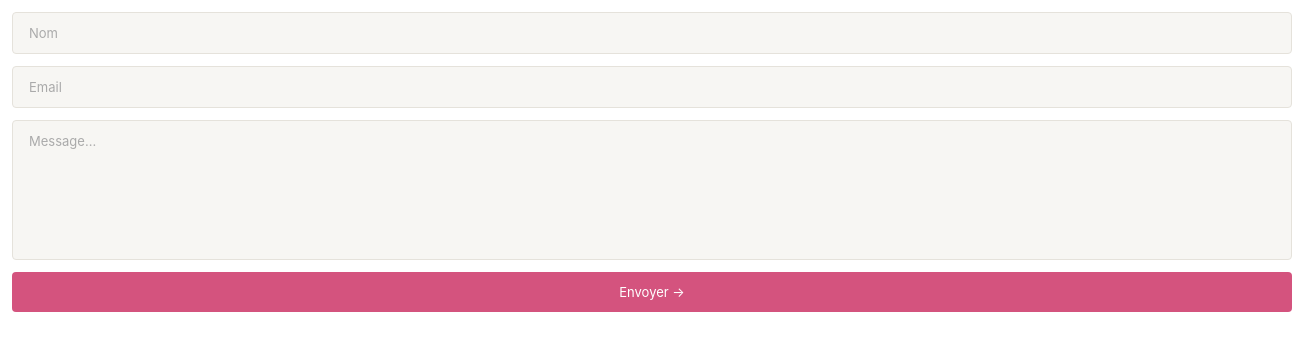
Test case: ContactForm › field validation › shows email format error for a malformed email
Type "Alice" into the field with placeholder "Nom" at (652, 33), box left=12, top=12, right=1292, bottom=54
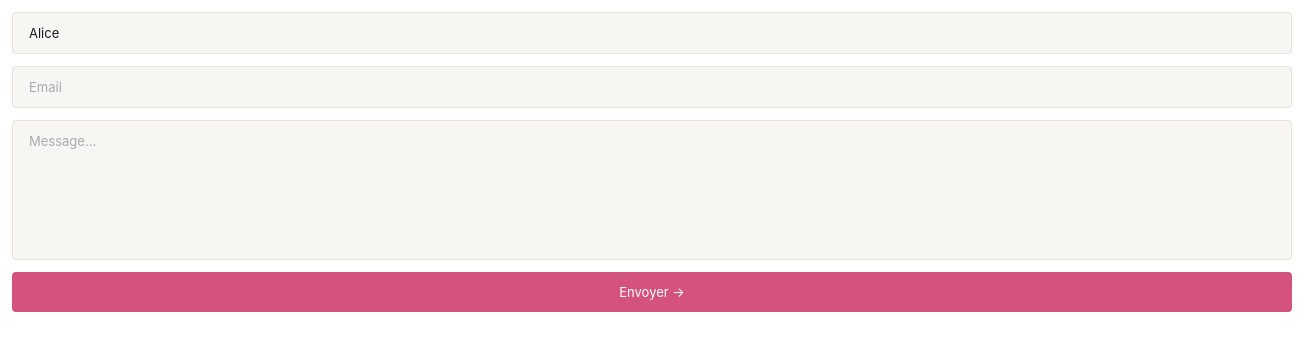
Type "not-an-email" into the field with placeholder "Email" at (652, 87), box left=12, top=66, right=1292, bottom=108
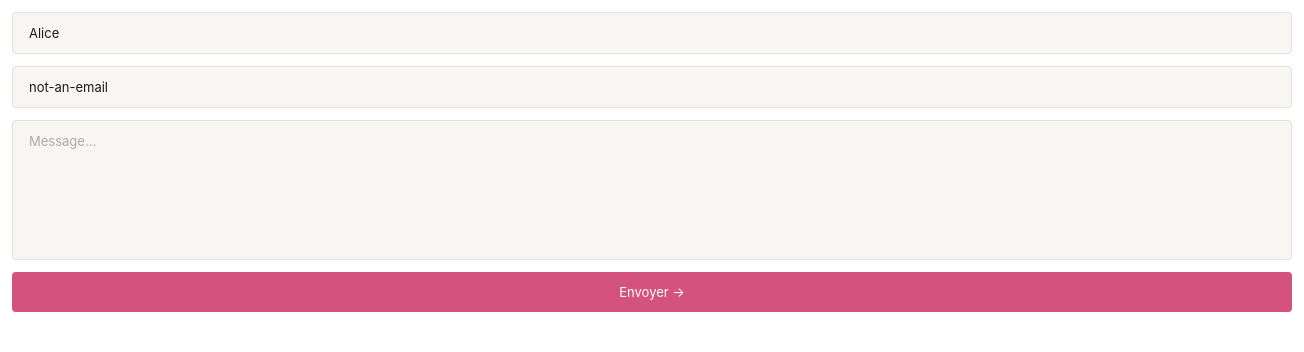
Type "Hello!" into the text box with placeholder "Message..." at (652, 190), box left=12, top=120, right=1292, bottom=260
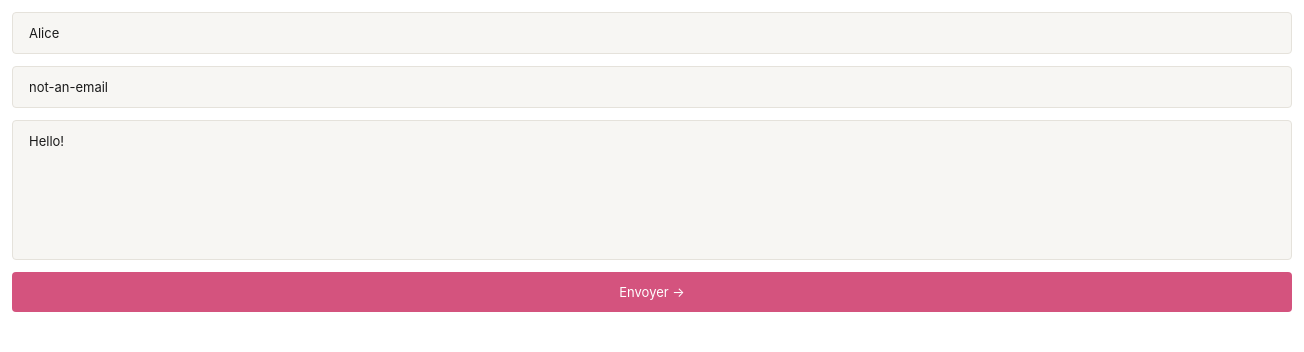
Click the button "Envoyer →" at (652, 292), box left=12, top=272, right=1292, bottom=312
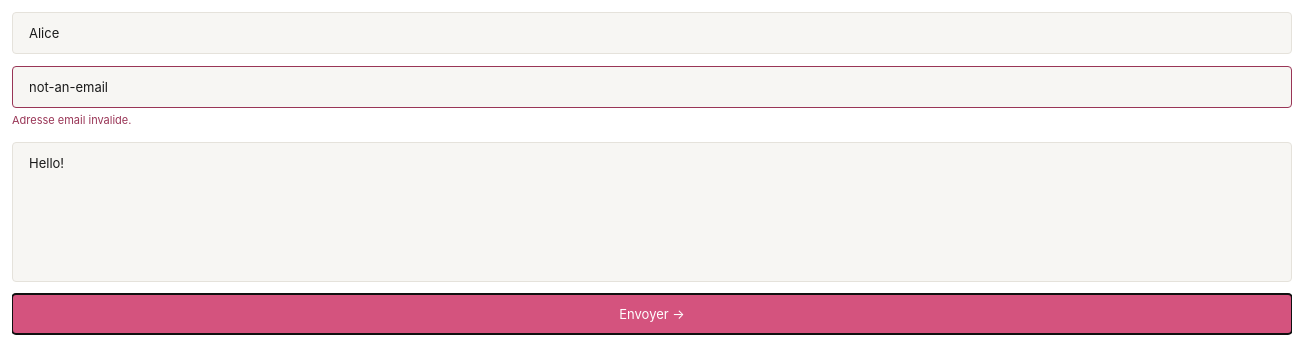
Result: the text "Adresse email invalide." is shown at left=12, top=113, right=131, bottom=127
